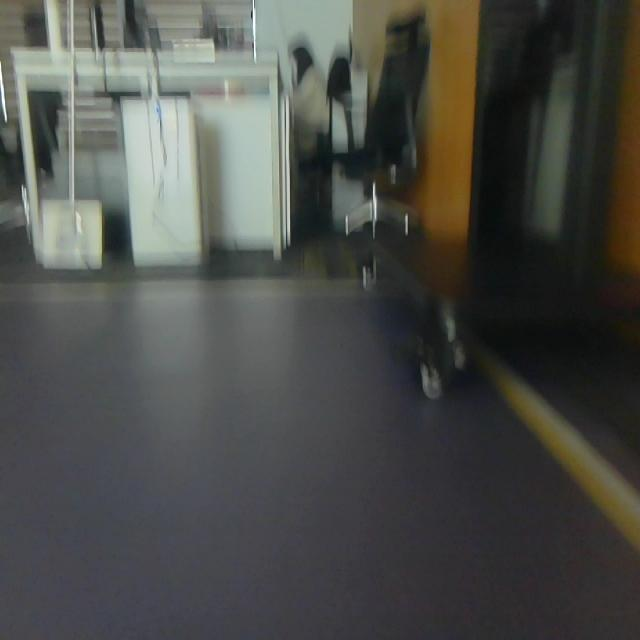right_lane: (477, 362, 640, 550)
